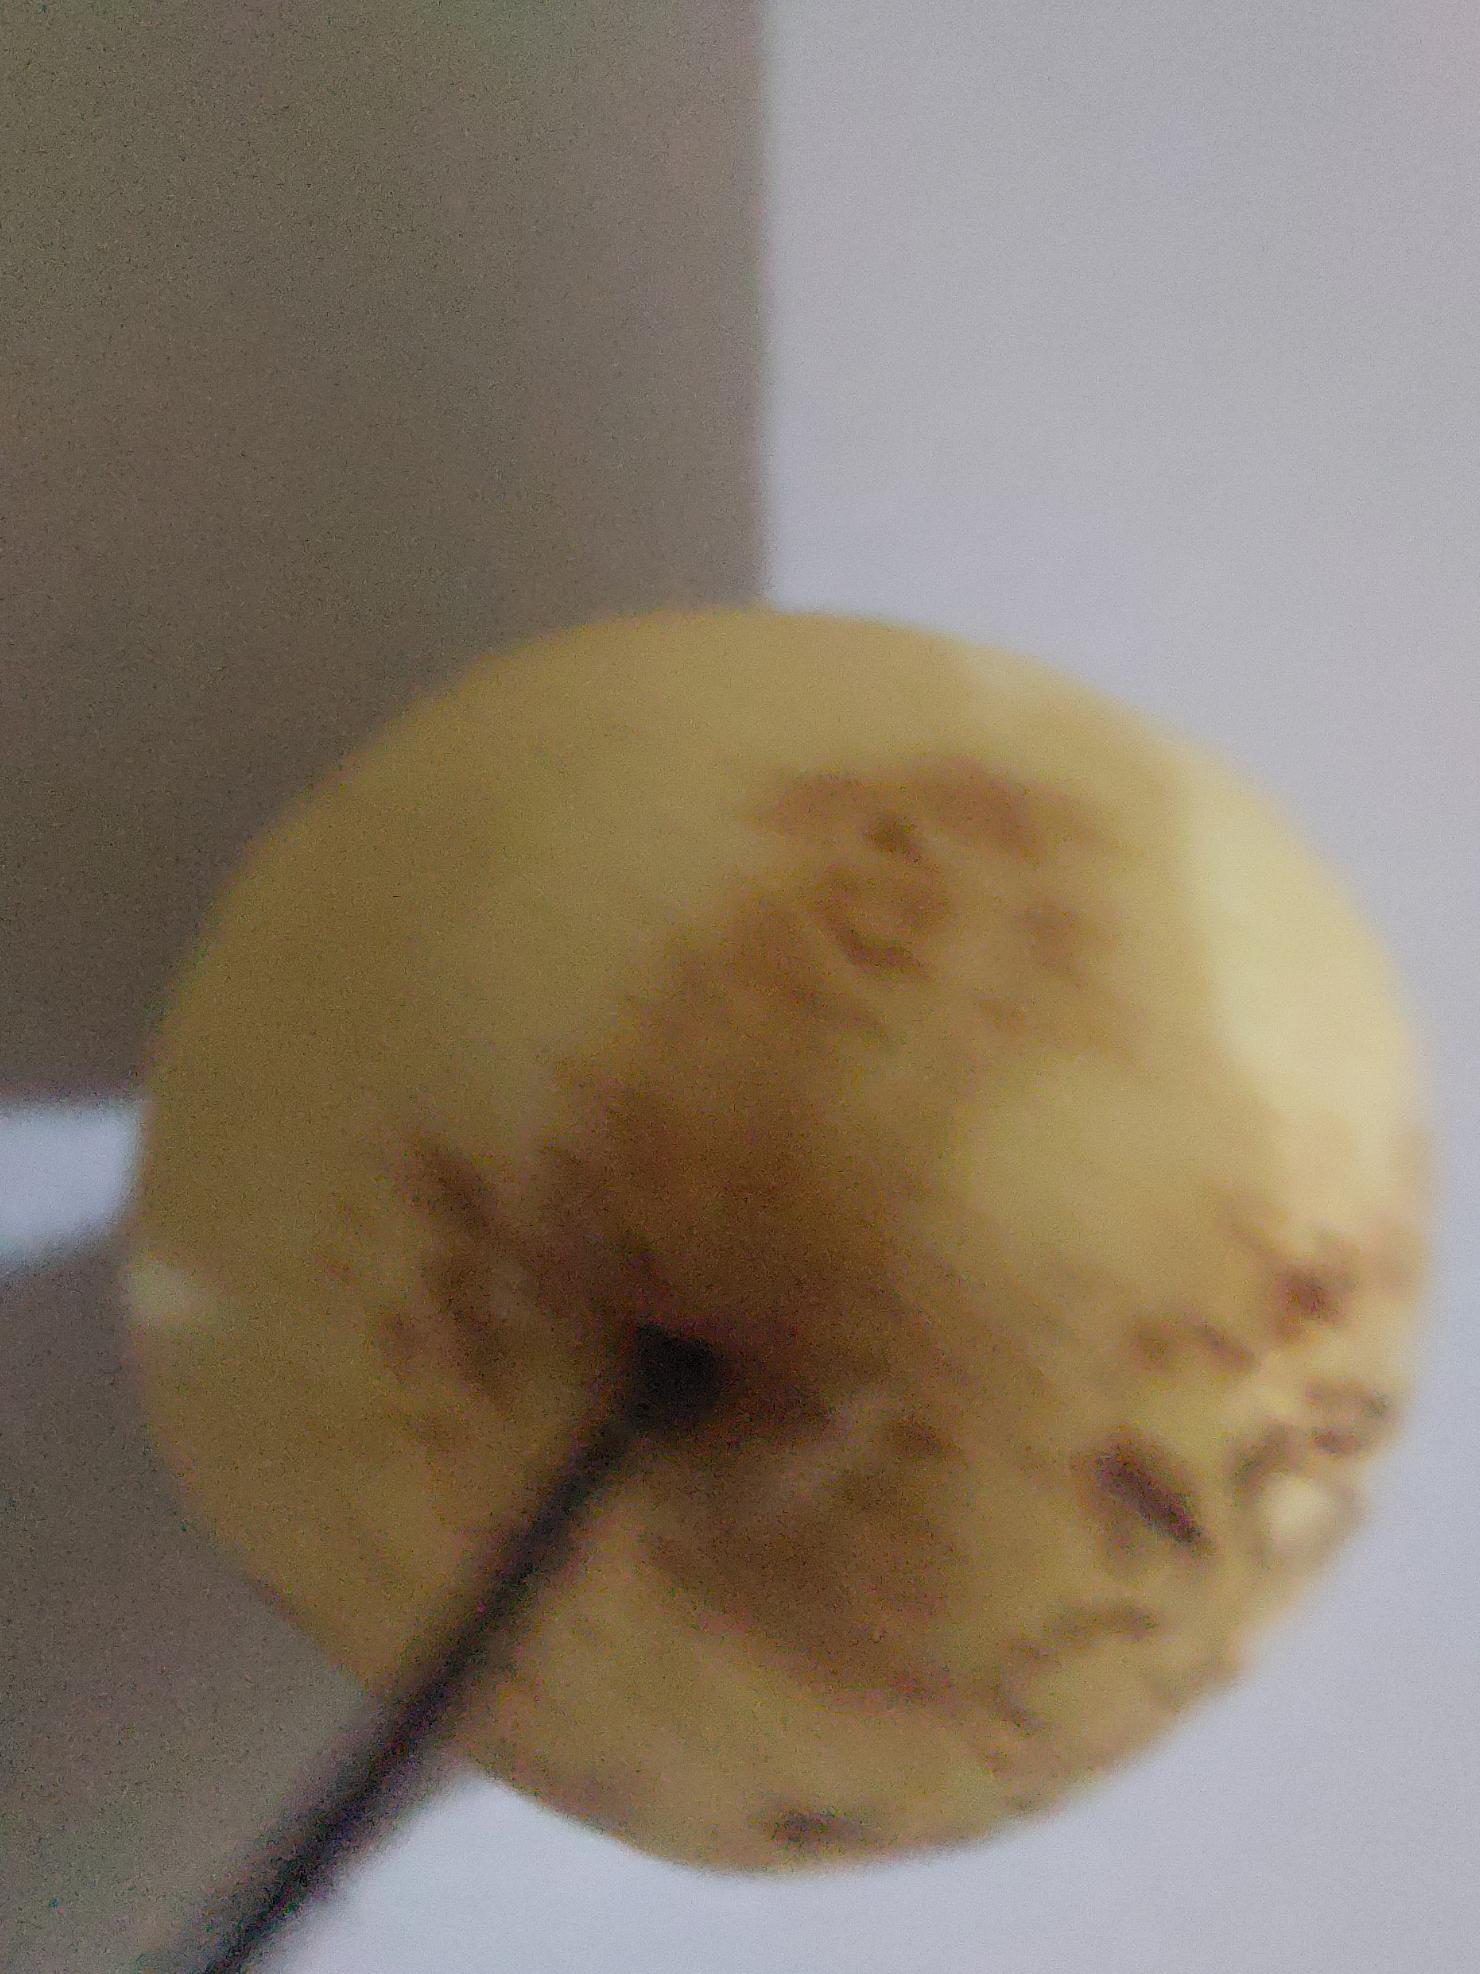Bad Pear: (131, 588, 1402, 1850)
